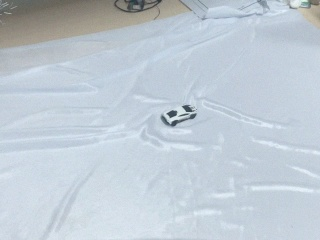toy_car: (161, 105, 197, 127)
